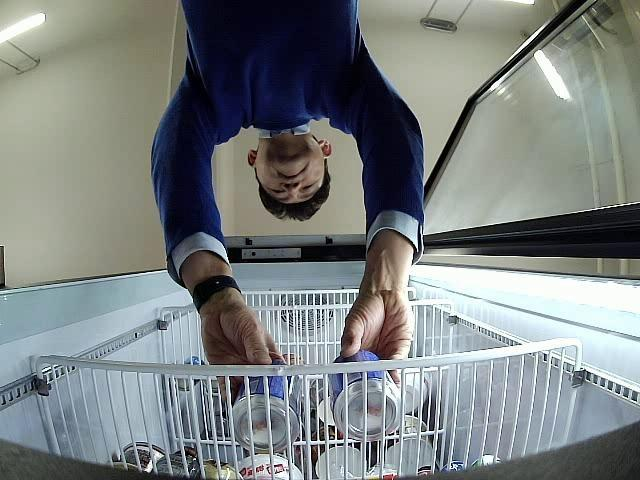13_pocariSweat: (328, 350, 400, 442), (232, 364, 300, 454)
